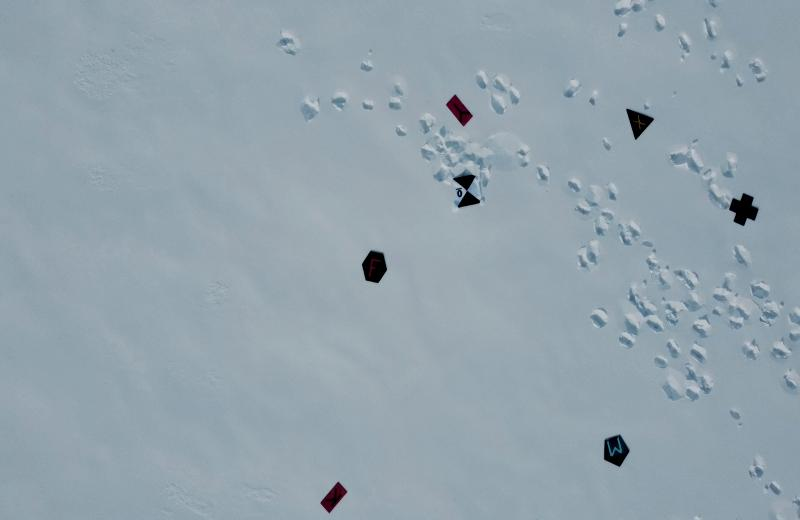Cross: (729, 193, 761, 227)
Hexagon: (360, 251, 390, 286)
Pentagon: (602, 435, 631, 468)
Rectangle: (444, 91, 477, 128), (318, 480, 348, 514)
Triangle: (624, 101, 653, 139)
